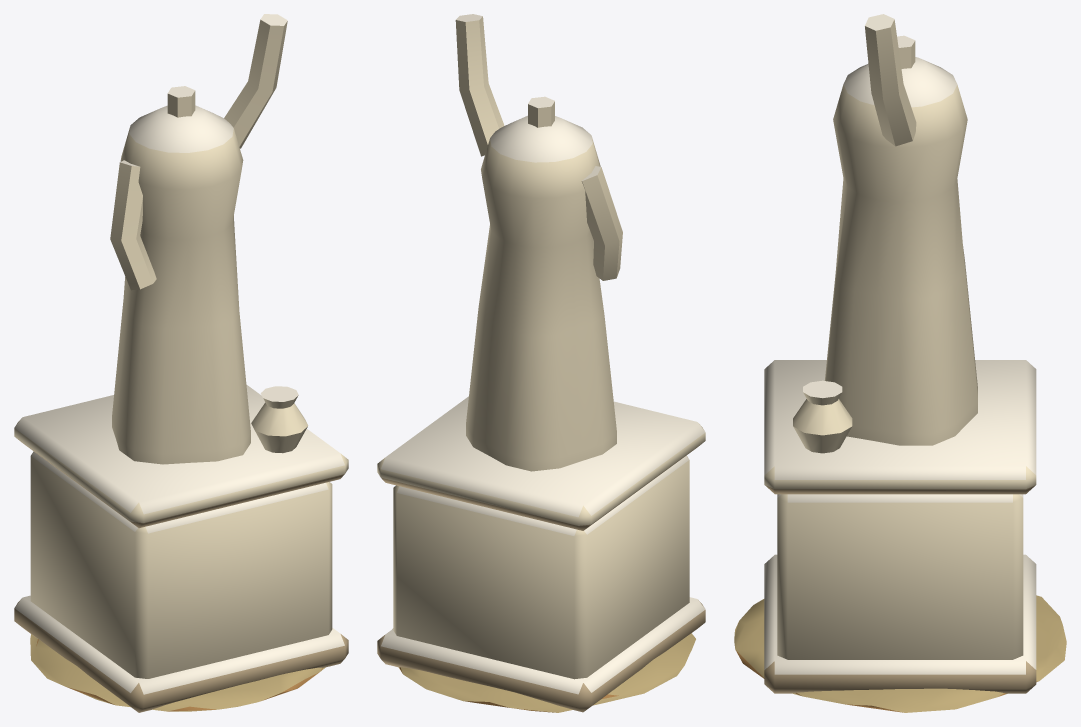
Rendered from MarbleStatue.fbx.
The picture shows the model from 3 angles, left to right: view 1: azimuth 30°, elevation 25°; view 2: azimuth 150°, elevation 25°; view 3: azimuth 270°, elevation 25°; orthographic projection. The views are drawn at different scales.
Visible parts, largest first — view 1: MarbleStatue; view 2: MarbleStatue; view 3: MarbleStatue.
Part boxes in pixels (left/top/right/bottom): MarbleStatue: left=14, top=14, right=348, bottom=712; MarbleStatue: left=377, top=14, right=705, bottom=712; MarbleStatue: left=734, top=14, right=1066, bottom=712.
Size of the model in its own units: 1.32 by 2.83 by 1.28.
1 material, 1 textured.
